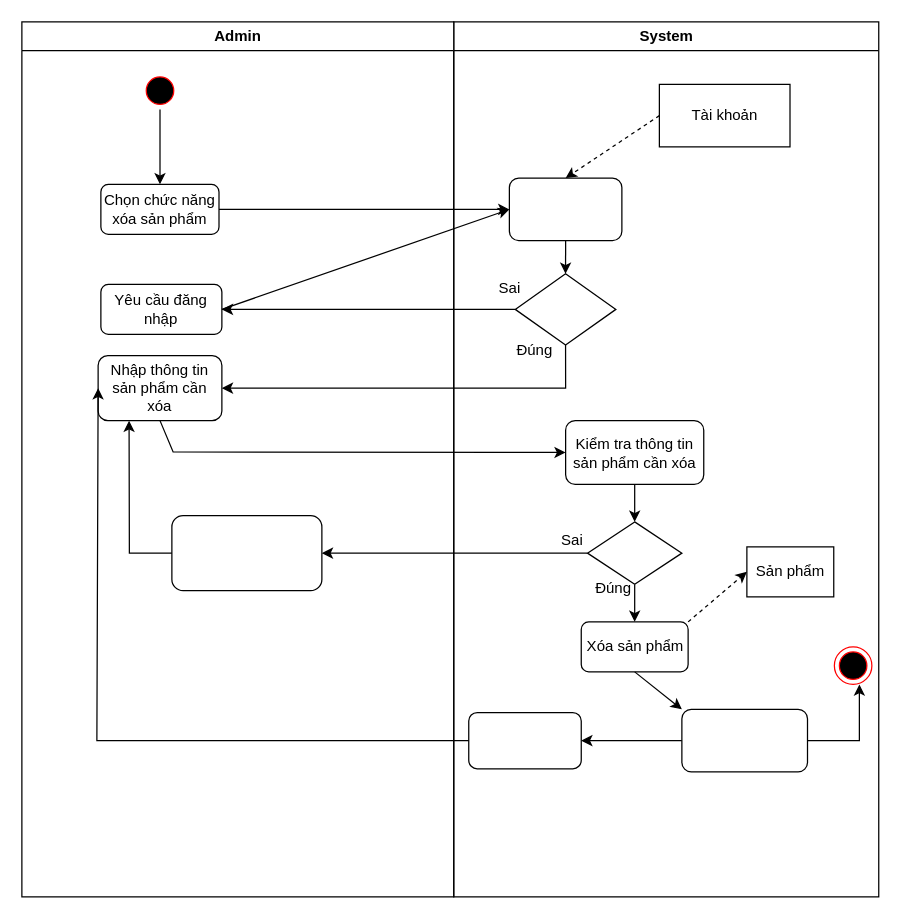
Some shapes in this 901 by 919 pixel diagram are drawn without their labels. Here are the shapes that lost their labels. From the top down, the centre of each, then its label:
At [565,209]: "Kiểm tra đăng nhập".
At [246,552]: "Thông báo lỗi và yêu cầu nhập lại thông tin sản phẩm cần xóa".
At [524,740]: "Reset form".
At [744,740]: "Thông báo xóa sản phẩm thành công".
